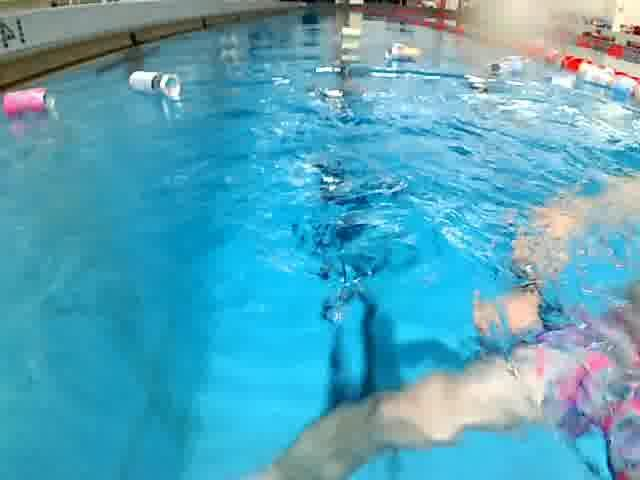Can: (1, 85, 57, 118), (128, 68, 181, 100)
